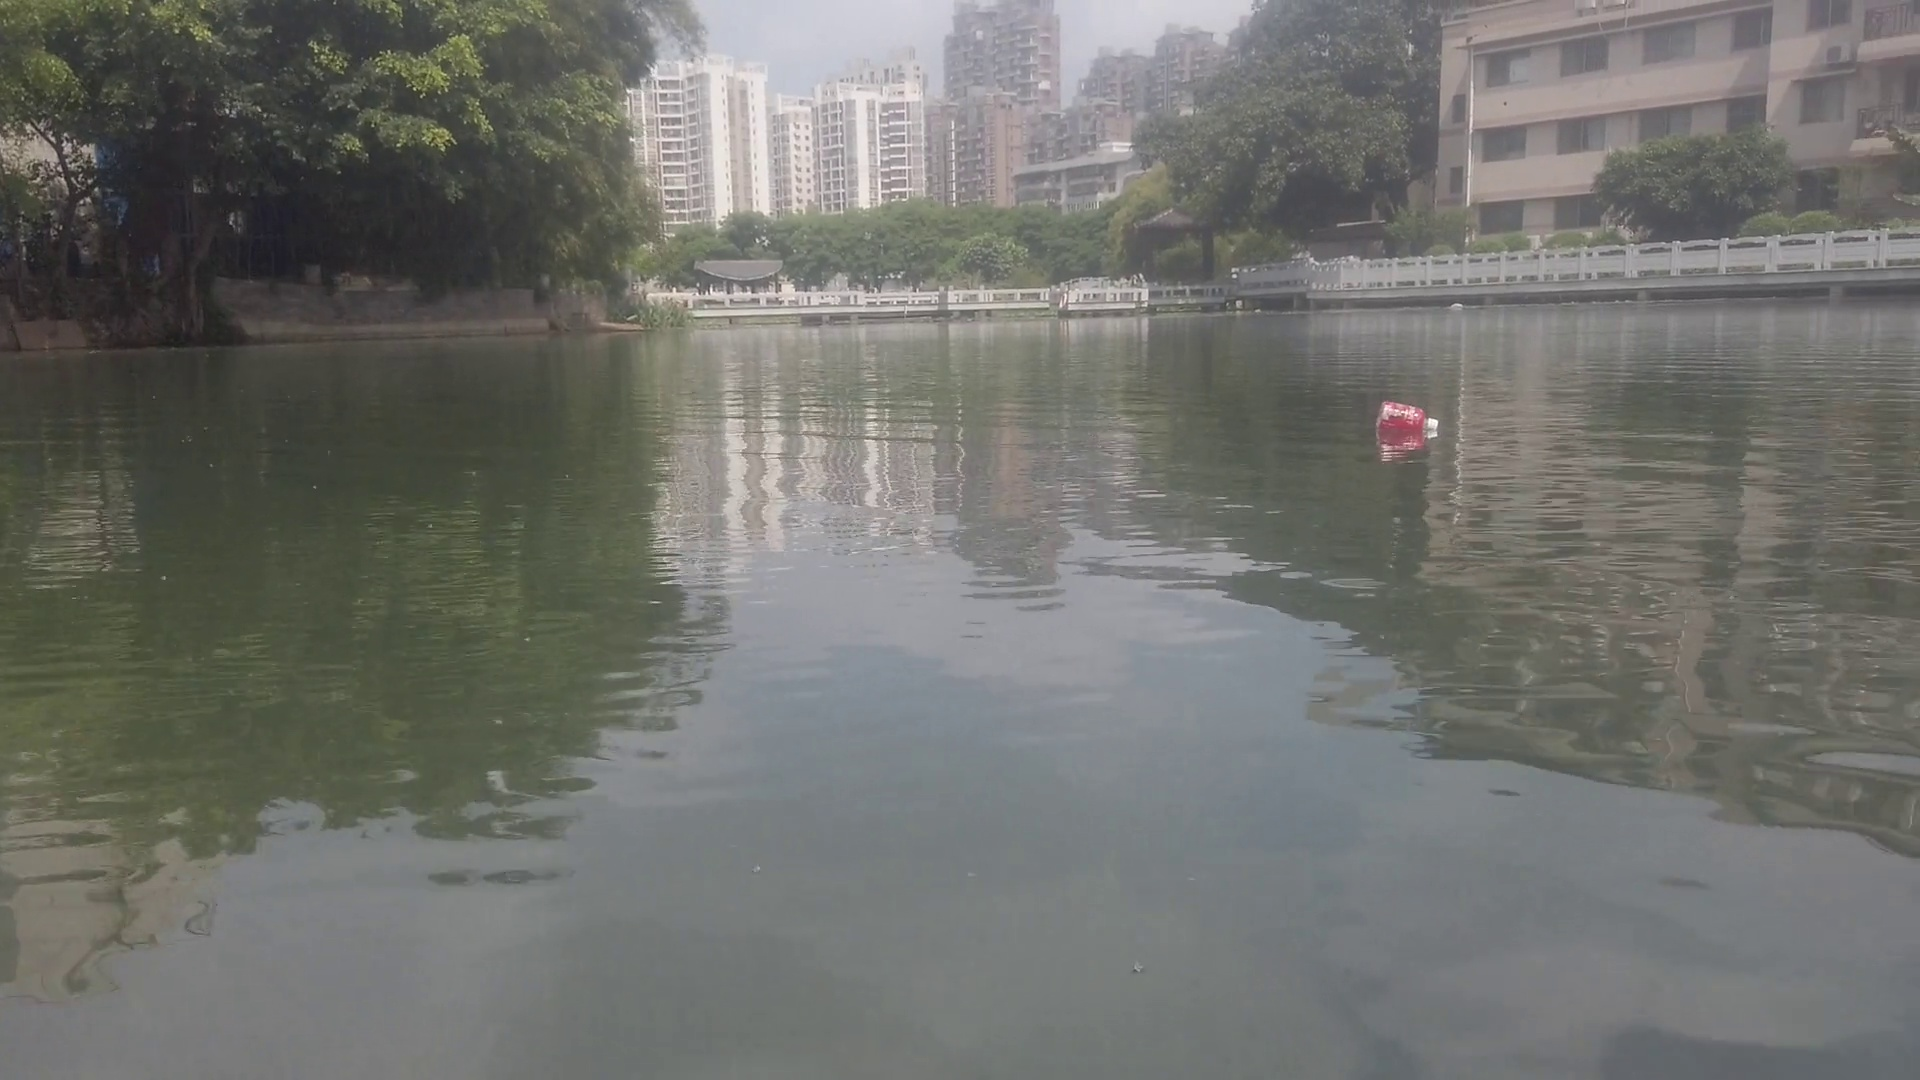bottle: (1373, 401, 1437, 433)
plastic: (1444, 301, 1465, 310)
